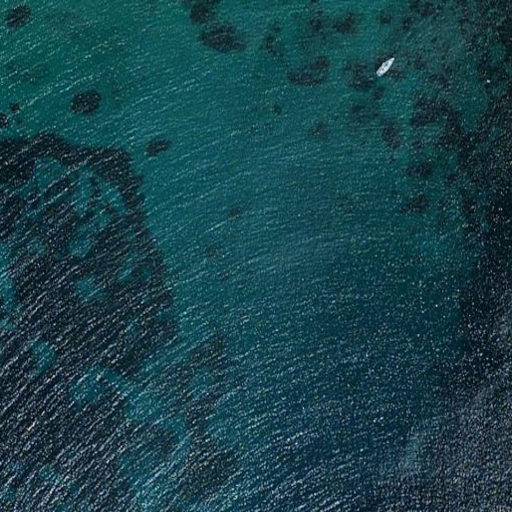ship: (374, 56, 398, 77)
